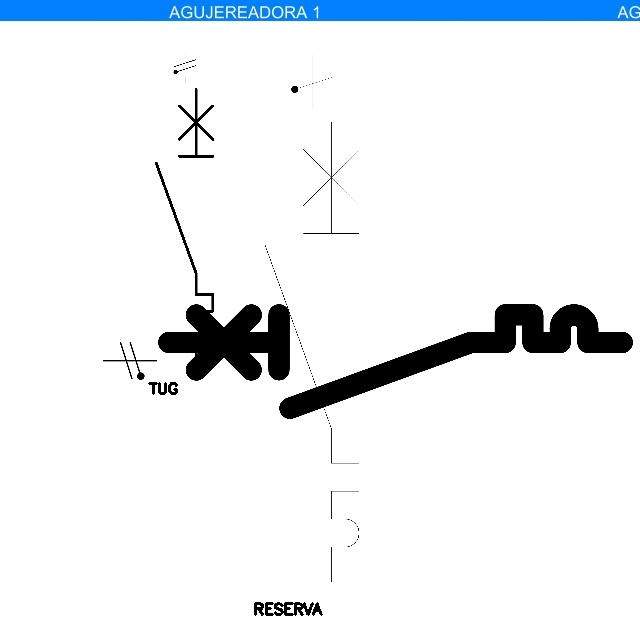interruptor_termomagnetico: (253, 109, 371, 593), (156, 303, 633, 420), (149, 81, 220, 372)
